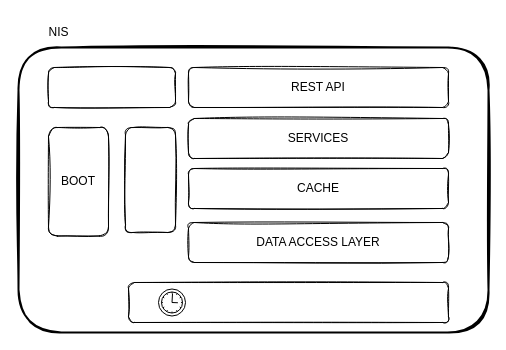
Image size: 506x350. Some labels were removed from this diagram. The shapes that lost their labels are listed below. From the top down, each one's box as (x1, y1, x2, y2) in pixels, then its label:
(48, 66, 176, 108): WEB SCOKET
(124, 126, 176, 232): DB
(128, 282, 448, 322): SCHEDULERS
